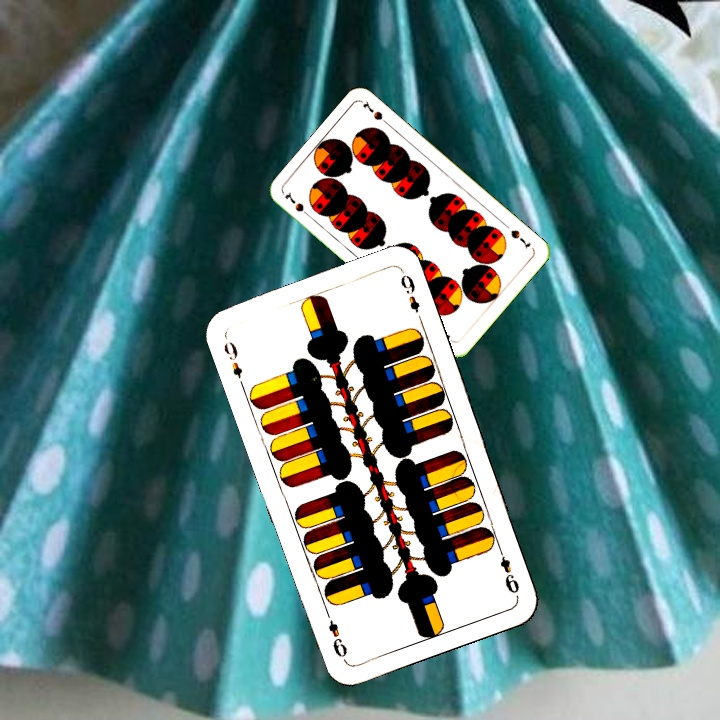E9: (493, 542, 522, 599), (219, 337, 245, 381)
S7: (281, 188, 314, 220), (507, 226, 533, 251)
